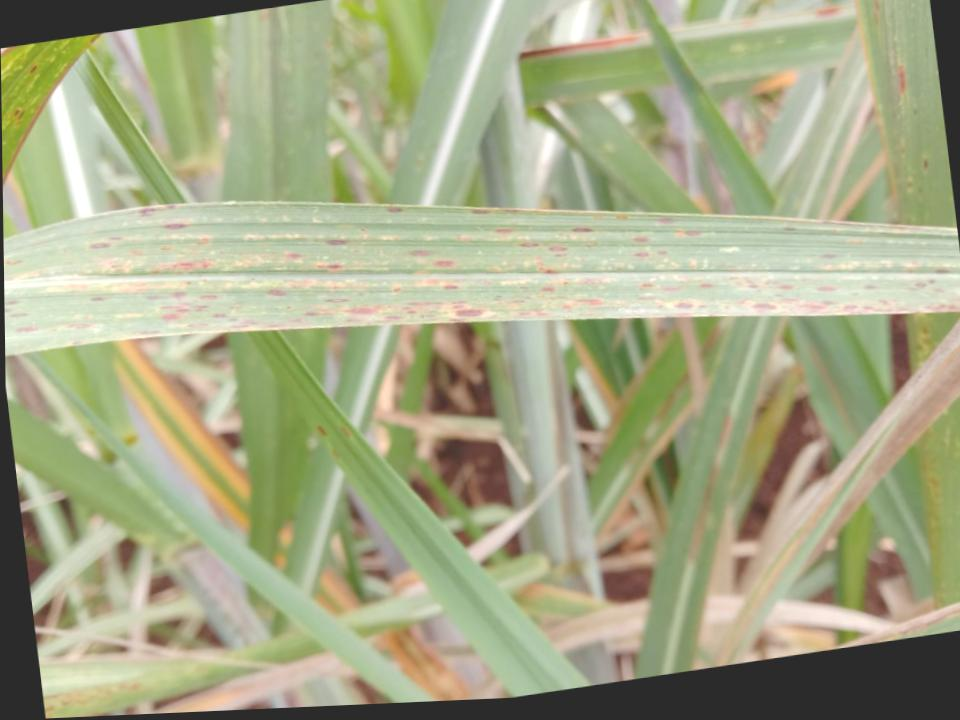Rust: (821, 219, 921, 231), (782, 298, 840, 314), (156, 257, 213, 270), (160, 303, 191, 322), (843, 304, 916, 312), (452, 300, 483, 316), (343, 304, 383, 316), (674, 299, 708, 312), (564, 299, 604, 310), (535, 256, 560, 273), (923, 302, 960, 312), (750, 302, 779, 313), (231, 318, 259, 329), (301, 309, 341, 316), (675, 229, 704, 238), (519, 309, 551, 316), (316, 263, 344, 270), (431, 260, 455, 268), (638, 281, 655, 292), (407, 301, 443, 306), (906, 283, 928, 291), (197, 234, 213, 245), (508, 300, 527, 309), (66, 323, 94, 329), (284, 250, 305, 258), (540, 283, 555, 294), (470, 208, 493, 215), (580, 277, 602, 284), (89, 242, 111, 249), (265, 289, 286, 296), (15, 326, 39, 332), (410, 250, 434, 256), (324, 298, 352, 303), (139, 208, 156, 216), (662, 285, 681, 292), (134, 330, 160, 335), (746, 280, 760, 289), (165, 223, 186, 229), (549, 246, 569, 252), (387, 206, 402, 214), (125, 249, 145, 255), (815, 286, 838, 291), (571, 227, 594, 232), (327, 239, 346, 245), (194, 304, 208, 312), (877, 299, 893, 306), (764, 278, 780, 285), (187, 323, 209, 328), (519, 242, 541, 247), (344, 318, 365, 323), (174, 292, 187, 300), (822, 253, 839, 259), (4, 300, 24, 305), (10, 312, 30, 317), (199, 295, 219, 300), (89, 297, 108, 302), (441, 284, 460, 289), (637, 296, 656, 301), (634, 236, 649, 242), (5, 260, 23, 265), (393, 285, 404, 293), (383, 315, 405, 319), (144, 296, 160, 301), (495, 229, 515, 233), (556, 279, 569, 285), (289, 318, 304, 323), (700, 282, 715, 287), (779, 285, 794, 290), (936, 269, 951, 274), (658, 219, 673, 224), (163, 204, 178, 209), (265, 324, 283, 328), (160, 246, 173, 251), (107, 237, 123, 241), (228, 306, 243, 310), (864, 284, 876, 289), (657, 250, 669, 255), (634, 252, 649, 256), (553, 253, 568, 257), (502, 209, 521, 212), (933, 289, 946, 293), (616, 214, 628, 218), (927, 279, 936, 284), (907, 269, 916, 274), (215, 313, 226, 317), (729, 276, 740, 280), (784, 226, 795, 230), (5, 308, 12, 313), (775, 294, 785, 297), (755, 289, 763, 292), (595, 216, 602, 219), (286, 307, 292, 309)
